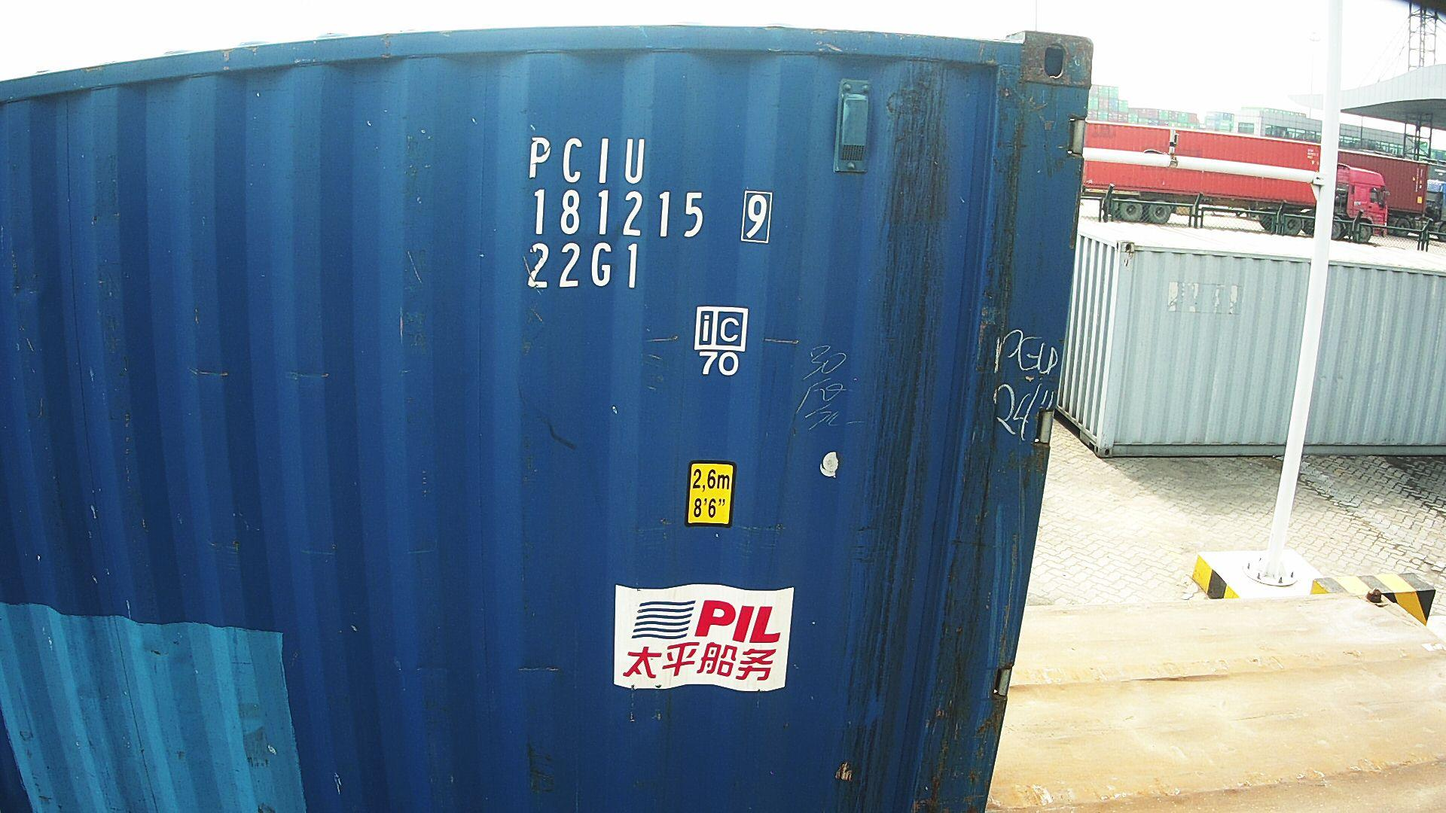container-numbers: (524, 187, 777, 247), (520, 134, 652, 186), (523, 240, 646, 294)
